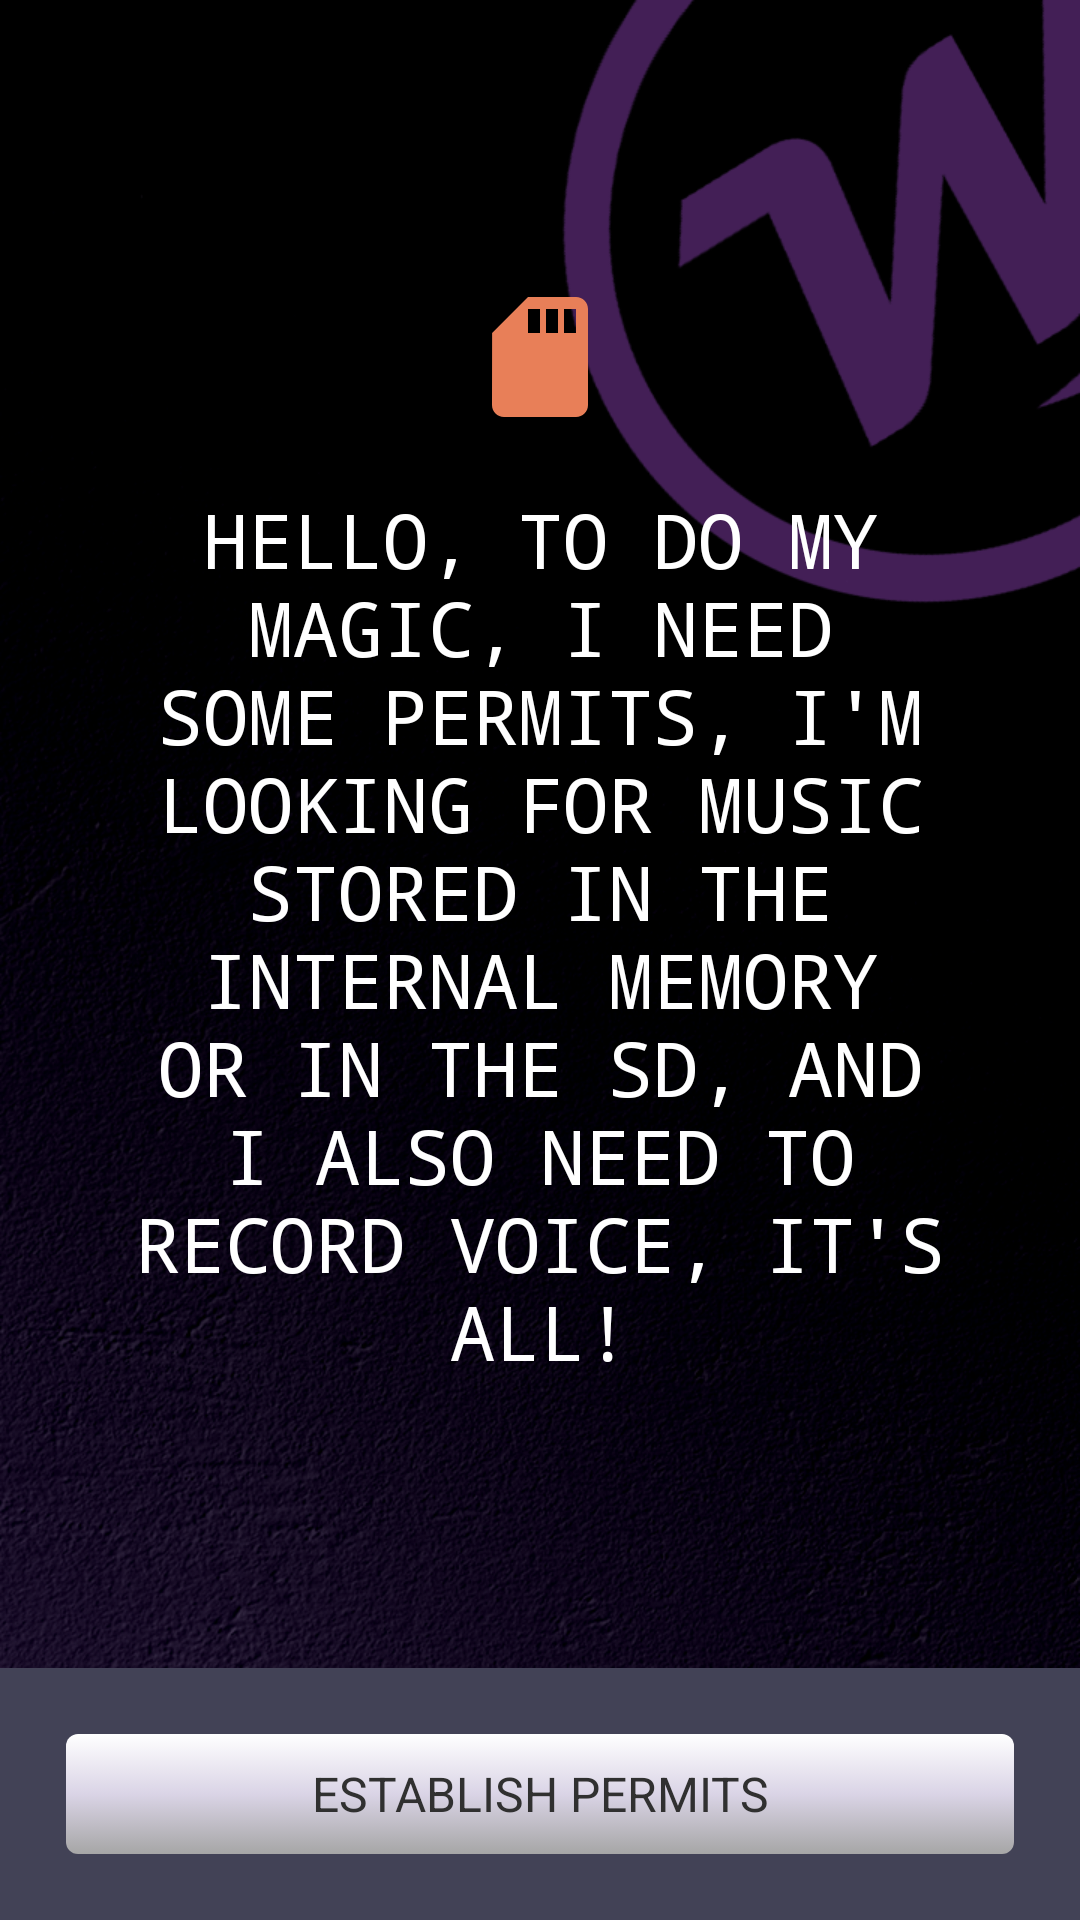

Named icons in this screenshot (1080px×1920px) and their bounding boxes, (x1, y1, x2, y2):
sd storage: (492, 285, 612, 418)
